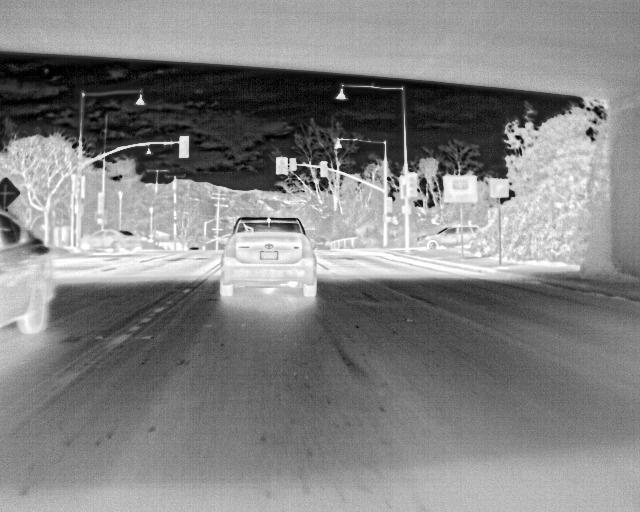car: (217, 217, 317, 302), (0, 206, 56, 338), (81, 227, 139, 254), (417, 224, 460, 251), (463, 224, 482, 244), (312, 236, 329, 251)
